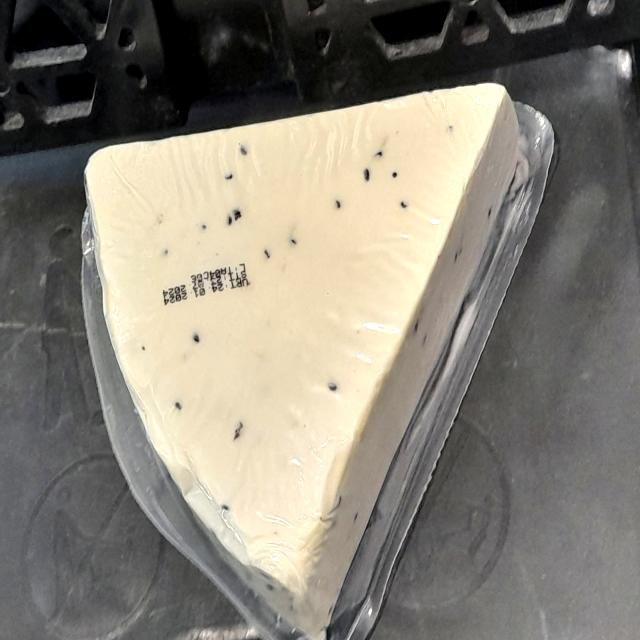cheese: (63, 72, 560, 623)
